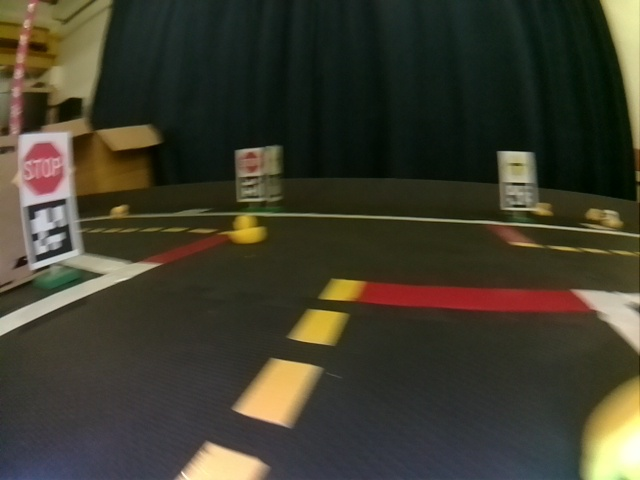Duckie: (230, 216, 265, 244), (532, 202, 553, 216)
Intersection sign: (500, 154, 534, 180)
QR code: (23, 198, 73, 263), (501, 181, 536, 209), (239, 176, 261, 198)
Stop sign: (21, 139, 68, 195), (237, 151, 260, 173)
